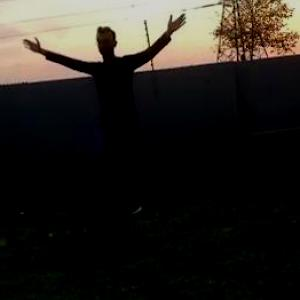takeoff: (34, 18, 178, 200)
